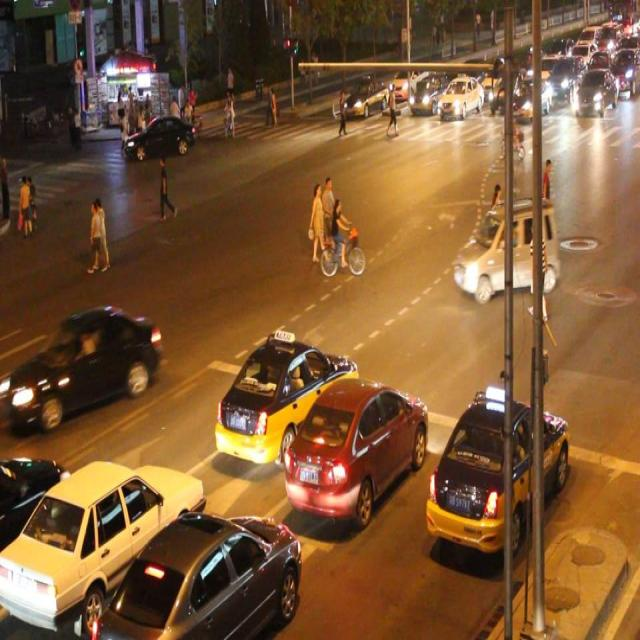car: (1, 459, 205, 630), (98, 513, 300, 640), (428, 394, 568, 552), (284, 376, 428, 520), (216, 335, 359, 466), (10, 303, 161, 422), (455, 196, 559, 297), (0, 451, 70, 552), (124, 114, 194, 157), (437, 72, 482, 118), (341, 74, 388, 118), (409, 71, 446, 113)
